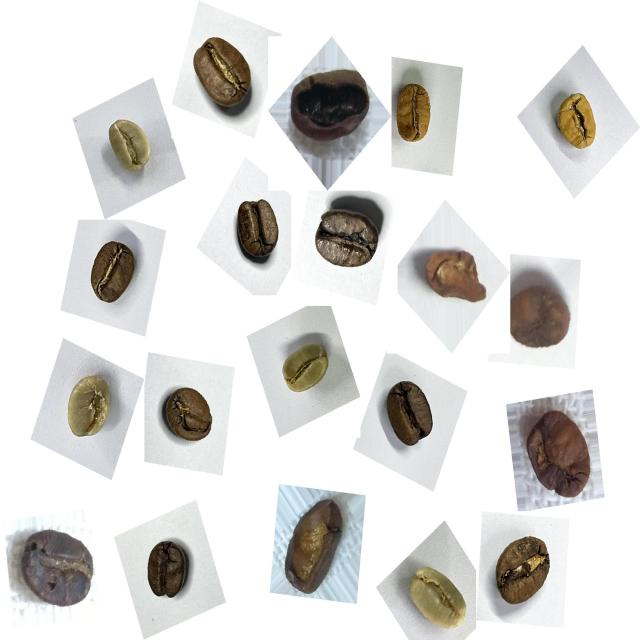bad: (516, 397, 604, 509), (286, 54, 380, 154), (278, 492, 357, 608), (16, 518, 104, 619), (504, 260, 580, 362), (419, 240, 495, 316)
dark: (307, 198, 390, 283), (134, 531, 198, 613)
green: (397, 558, 473, 640), (54, 366, 124, 454), (273, 331, 340, 408), (96, 110, 163, 187)
light: (545, 83, 608, 162), (388, 72, 447, 155)
medium: (181, 27, 264, 124), (485, 522, 562, 618), (378, 371, 446, 460), (79, 231, 146, 315), (156, 379, 222, 455), (228, 191, 291, 269)
